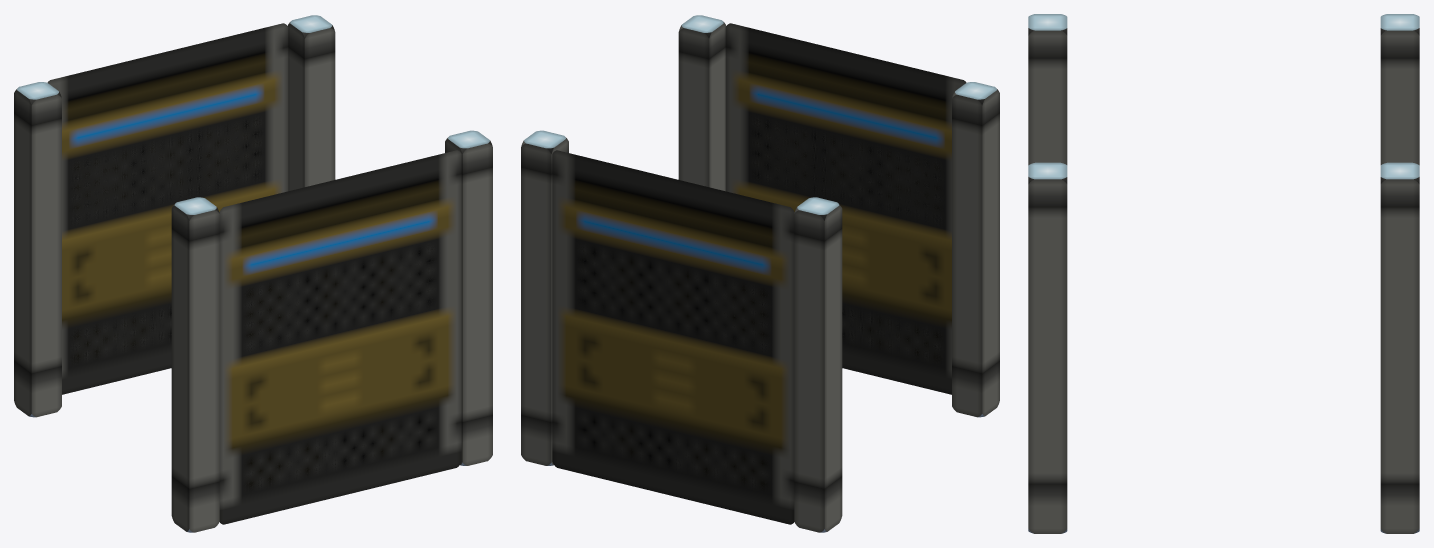
3 renders of one model, left to right at view 1: azimuth 30°, elevation 25°; view 2: azimuth 150°, elevation 25°; view 3: azimuth 270°, elevation 25°, orthographic. The views are drawn at different scales.
Parts seen in each view (by area): view 1: S, N, SW, NW, SE, NE; view 2: N, S, NW, SW, NE, SE; view 3: NE, SE, NW, SW.
Boxes of the visible parts, x1,y1,x2,y2 form: S: [219, 150, 461, 524]; N: [47, 23, 288, 394]; SW: [171, 197, 219, 532]; NW: [14, 82, 61, 417]; SE: [445, 130, 492, 465]; NE: [287, 15, 335, 191]; N: [552, 150, 794, 524]; S: [725, 23, 966, 394]; NW: [794, 197, 842, 532]; SW: [952, 82, 999, 417]; NE: [521, 130, 568, 465]; SE: [678, 15, 726, 191]; NE: [1380, 162, 1419, 533]; SE: [1028, 162, 1067, 533]; NW: [1380, 14, 1419, 165]; SW: [1028, 14, 1067, 165].
Size of the model in its own units: 2 by 2 by 2.
1 material, 1 textured.
